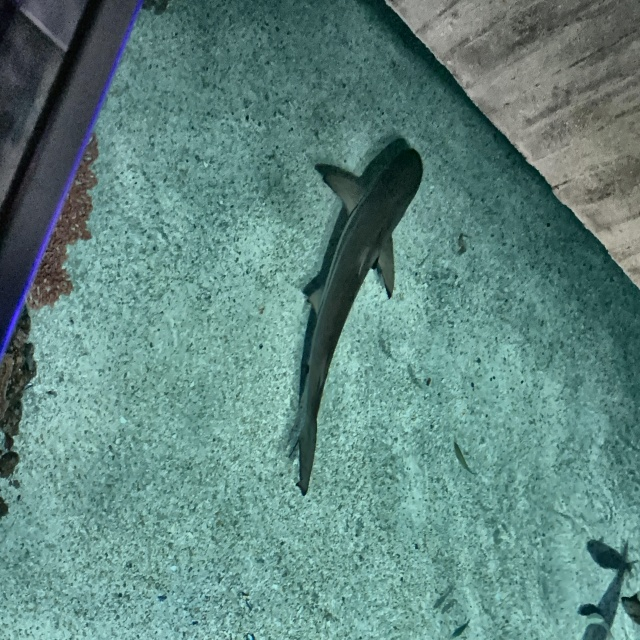fish: (587, 538, 637, 575)
shark: (283, 148, 423, 496)
